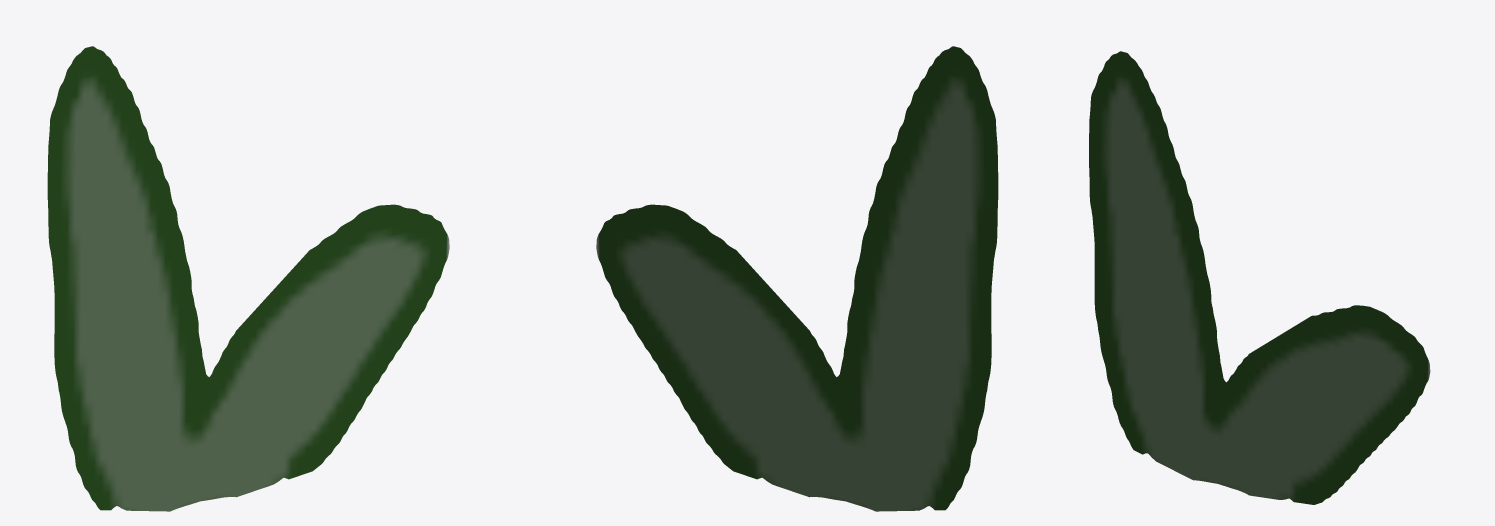
File: grass003_mesh.fbx
3 views of the same model, side by side, from view 1: azimuth 30°, elevation 25°; view 2: azimuth 150°, elevation 25°; view 3: azimuth 330°, elevation 25° (orthographic). The views are drawn at different scales.
Parts seen in each view (by area): view 1: grass003; view 2: grass003; view 3: grass003.
Part boxes in pixels (left/top/right/bottom): grass003: left=47, top=46, right=449, bottom=511; grass003: left=596, top=46, right=998, bottom=511; grass003: left=1089, top=51, right=1430, bottom=504.
Bounding box in the file's own units: 27.83 × 28.45 × 1.74e-15.
